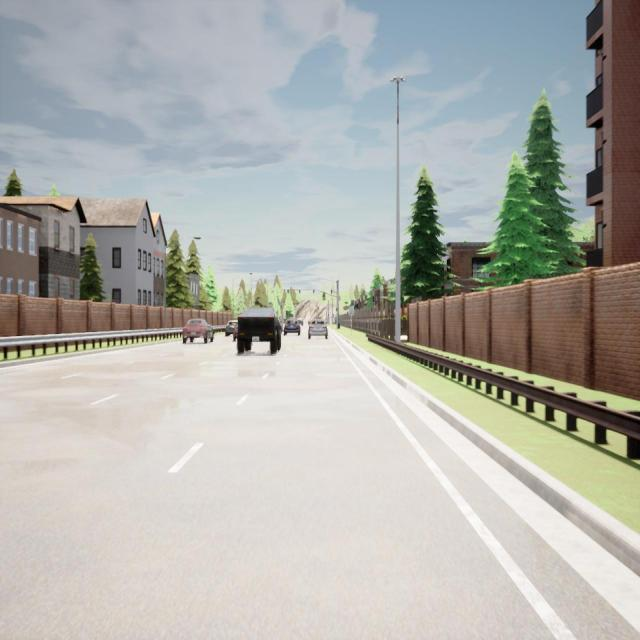Traffic_Signs: (348, 308, 354, 316)
Vehicle: (238, 307, 281, 356), (182, 318, 215, 344), (309, 318, 328, 340), (284, 318, 301, 336), (225, 321, 237, 336), (233, 322, 238, 341), (298, 318, 304, 325)
traffic_light: (287, 289, 289, 295), (336, 307, 338, 313), (313, 290, 315, 294), (299, 290, 300, 293)
